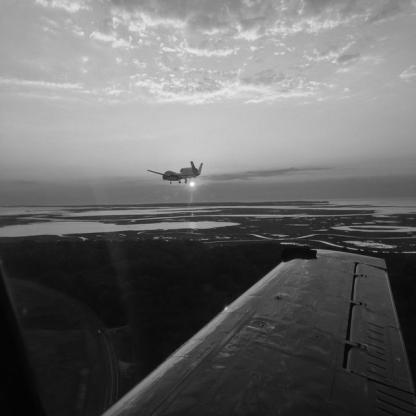RQ4: (147, 162, 204, 185)
